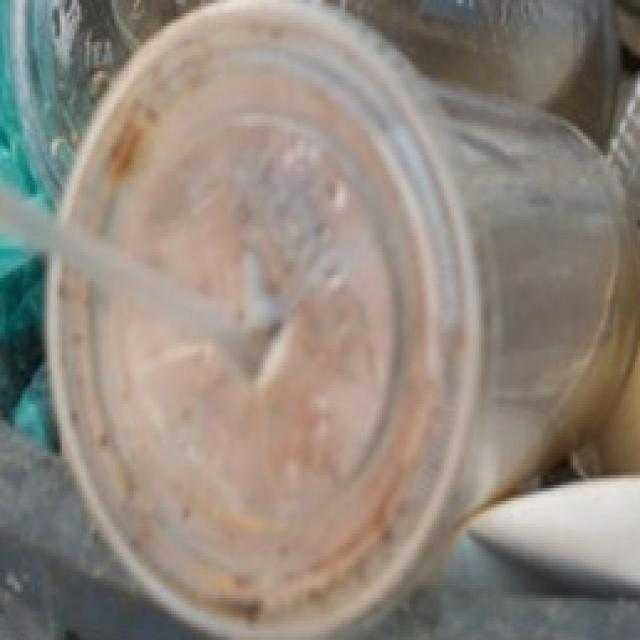plastic cup: (44, 0, 640, 637)
